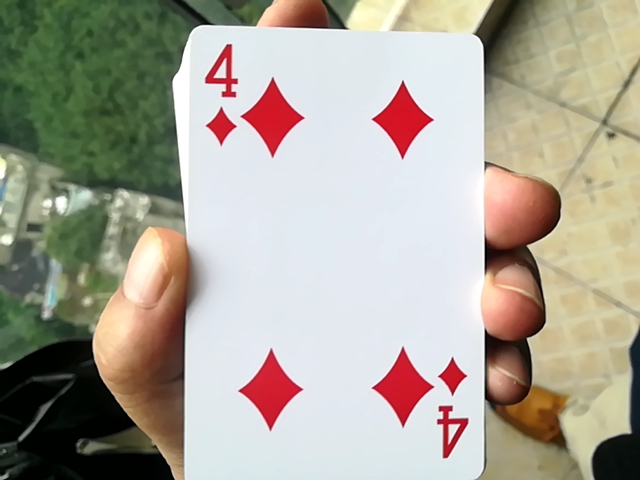fk 4: (156, 7, 493, 473)
